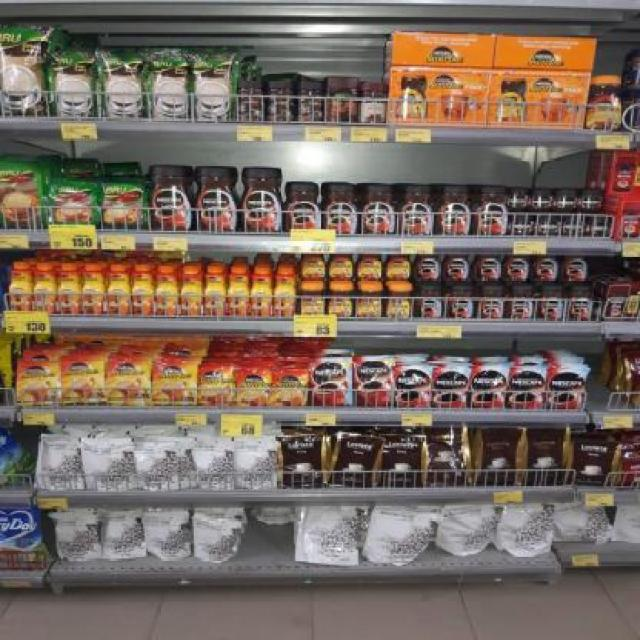Coffee: (194, 166, 240, 232), (149, 166, 193, 232), (240, 167, 284, 233), (16, 360, 61, 406), (358, 183, 397, 235), (310, 360, 353, 406), (61, 358, 105, 402), (108, 359, 149, 406), (322, 182, 358, 235), (398, 183, 434, 235), (473, 184, 509, 236), (284, 182, 321, 232), (436, 186, 472, 237), (355, 358, 393, 404), (153, 362, 194, 404), (508, 368, 546, 410), (394, 366, 432, 406), (470, 368, 508, 408), (547, 369, 585, 409), (196, 366, 233, 406), (590, 77, 619, 128), (432, 368, 468, 408), (236, 368, 272, 407), (273, 369, 307, 406), (80, 264, 104, 314), (226, 266, 250, 316), (202, 266, 224, 317), (178, 266, 200, 316), (132, 264, 153, 316), (156, 265, 177, 317), (58, 264, 80, 313), (34, 264, 55, 314), (384, 284, 414, 318), (10, 261, 30, 311), (274, 266, 294, 316), (446, 286, 474, 320), (108, 264, 127, 314), (326, 284, 354, 316), (508, 286, 534, 320), (355, 285, 382, 317), (569, 286, 593, 320), (539, 286, 563, 320), (416, 286, 442, 317), (478, 287, 504, 318), (253, 266, 269, 316), (300, 283, 322, 315), (476, 255, 502, 280), (505, 254, 530, 280), (562, 256, 587, 282), (300, 255, 326, 279), (534, 255, 558, 280), (445, 256, 469, 280), (417, 256, 441, 280), (553, 188, 579, 210), (578, 189, 604, 211), (537, 214, 561, 237), (510, 214, 536, 235), (330, 254, 352, 278), (357, 256, 381, 278), (530, 188, 553, 210), (562, 216, 586, 237), (508, 189, 530, 211), (388, 256, 410, 278), (588, 216, 610, 237)
